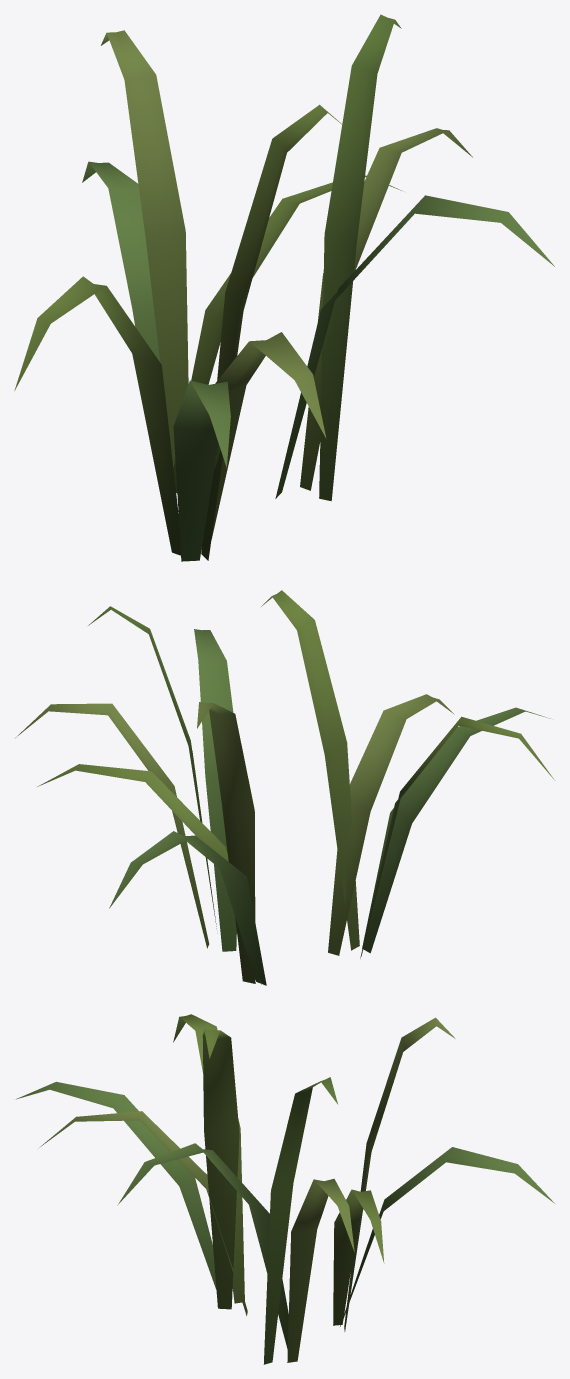
Rendered from SM_GrassLongCurved_LOD2.fbx.
3 renders of one model, top to bottom at view 1: azimuth 30°, elevation 25°; view 2: azimuth 150°, elevation 25°; view 3: azimuth 270°, elevation 25°, orthographic. The views are drawn at different scales.
Parts seen in each view (by area): view 1: SM_GrassLongCurved_LOD2; view 2: SM_GrassLongCurved_LOD2; view 3: SM_GrassLongCurved_LOD2.
Part boxes in pixels (box(x1,y1,x2,y2)): SM_GrassLongCurved_LOD2: box(14, 14, 554, 561); SM_GrassLongCurved_LOD2: box(15, 590, 554, 985); SM_GrassLongCurved_LOD2: box(16, 1014, 554, 1364).
Bounding box in the file's own units: 1.18 × 1.27 × 0.8329.
Materials: 1 (1 with a texture image).
